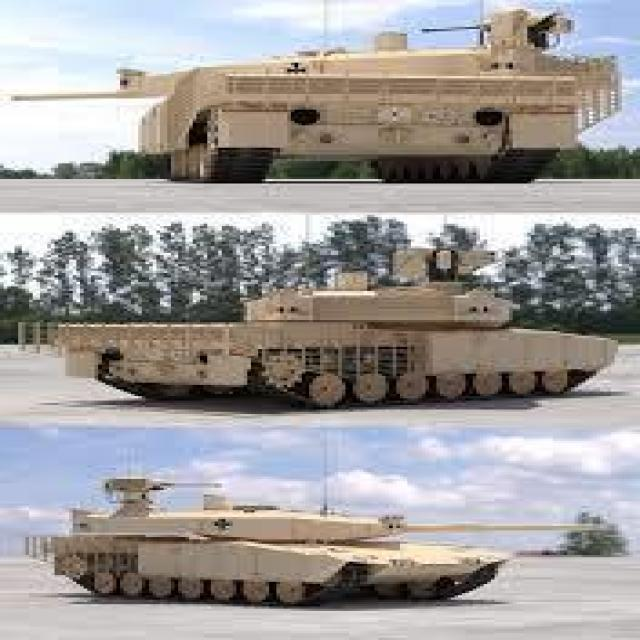MIL_MBT: (38, 209, 565, 413), (35, 431, 573, 617), (44, 20, 571, 183)
